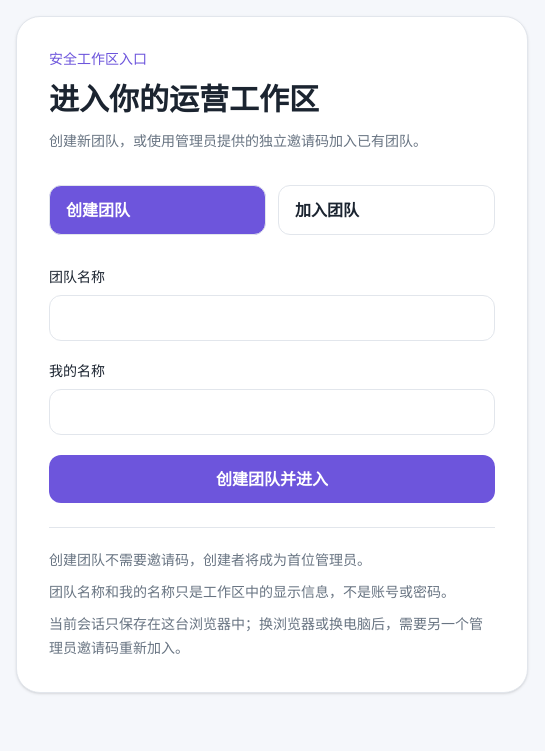
locks the create mode while pending and restores it after a safe failure
In the field labelled "团队名称": (272, 318) [49,295,495,341], type "合成测试团队"
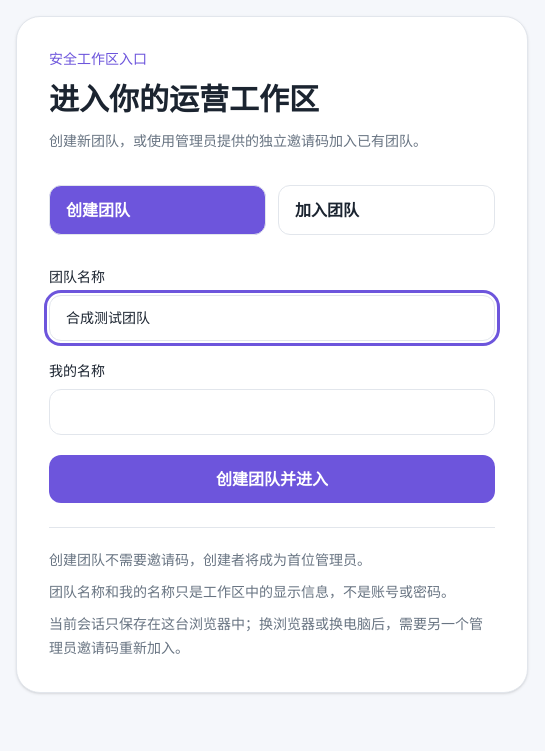
In the field labelled "我的名称": (272, 412) [49,389,495,435], type "测试管理员"
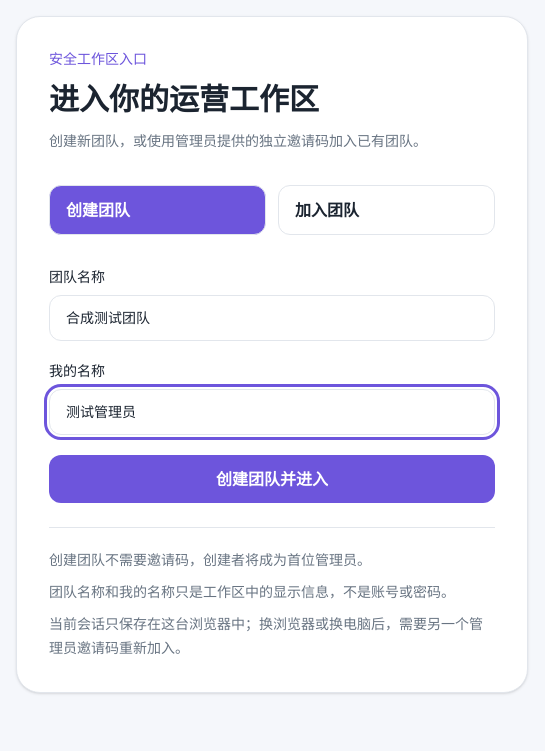
Click the button "创建团队并进入": (272, 479) [49,455,495,503]
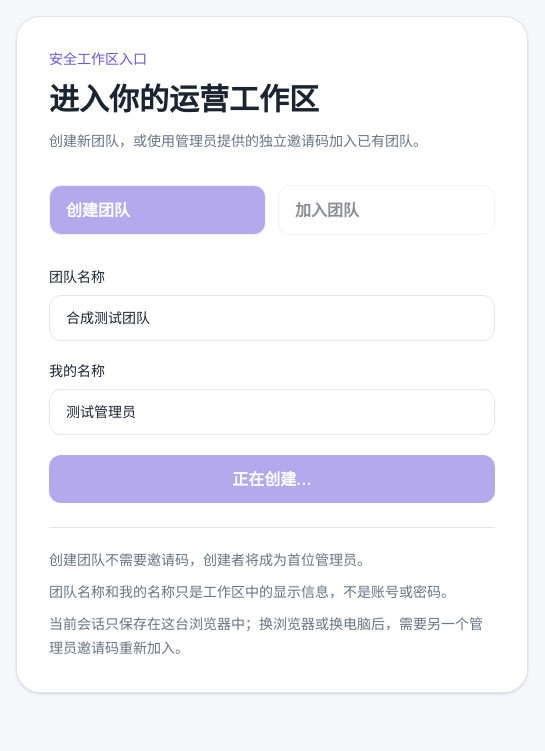
Check: the button named "创建团队并进入" is disabled, box [49,455,495,503]
Check: the button "创建团队" is disabled, box [49,185,266,235]
Check: the button "加入团队" is disabled
Click the button "加入团队": (386, 210) [278,185,495,235]
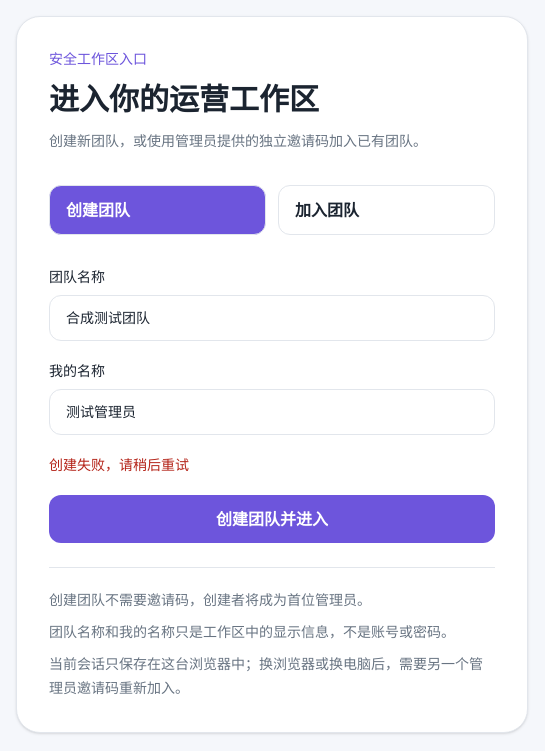
Check: the message "创建失败，请稍后重试" is shown, box [49,456,189,473]
Check: the button "创建团队并进入" is enabled, box [49,495,495,543]
Check: the button "创建团队" is enabled, box [49,185,266,235]
